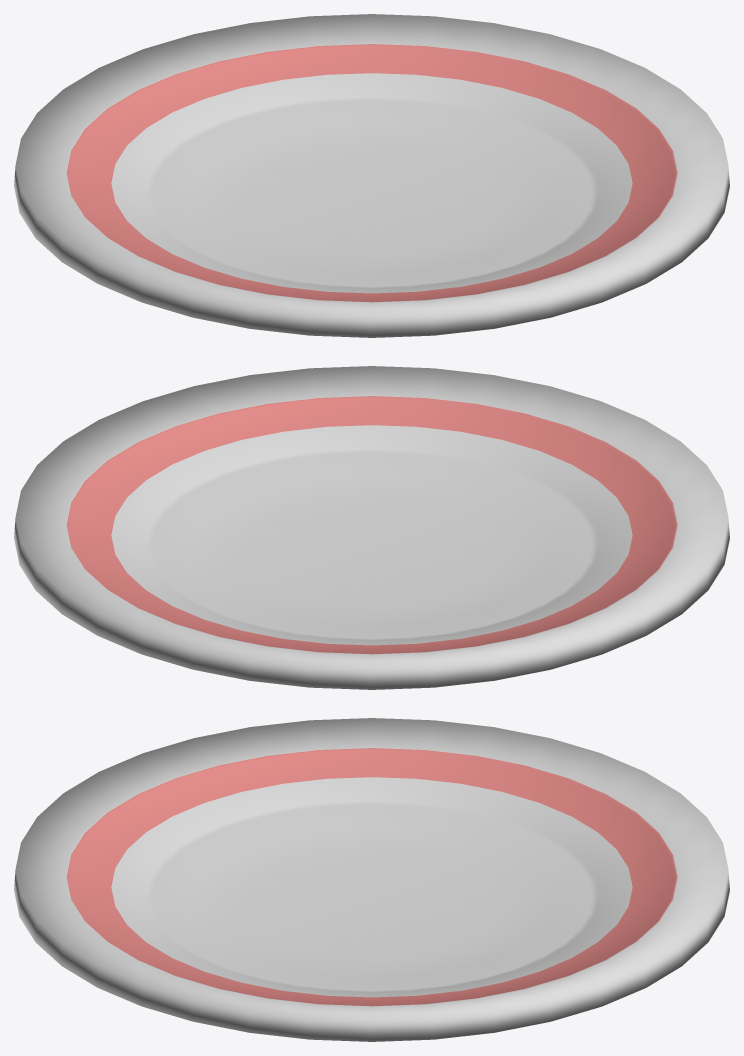
File: Dish.fbx
The picture shows the model from 3 angles, top to bottom: view 1: azimuth 30°, elevation 25°; view 2: azimuth 150°, elevation 25°; view 3: azimuth 270°, elevation 25°; orthographic projection.
Visible parts, largest first — view 1: Dish; view 2: Dish; view 3: Dish.
Boxes of the visible parts, x1,y1,x2,y2 form: Dish: (14, 14, 729, 337); Dish: (14, 366, 729, 689); Dish: (14, 718, 729, 1041).
Size of the model in its own units: 114 by 10.45 by 114.
